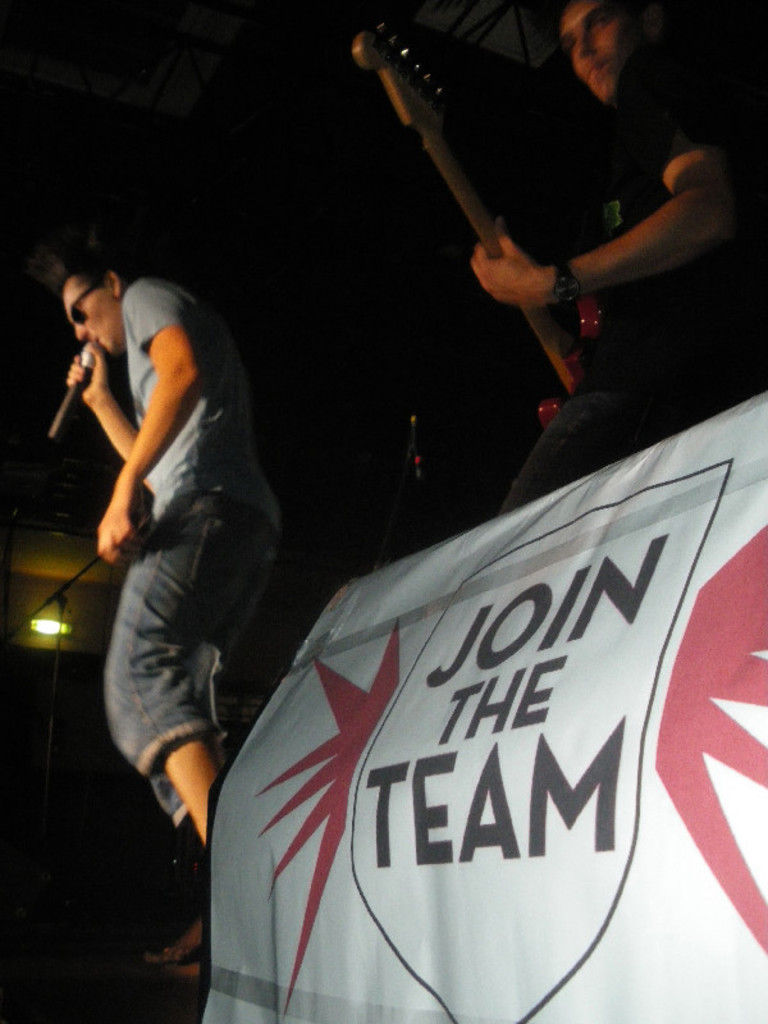Human_hand: (471, 196, 580, 302), (95, 499, 138, 570), (64, 340, 108, 399)
